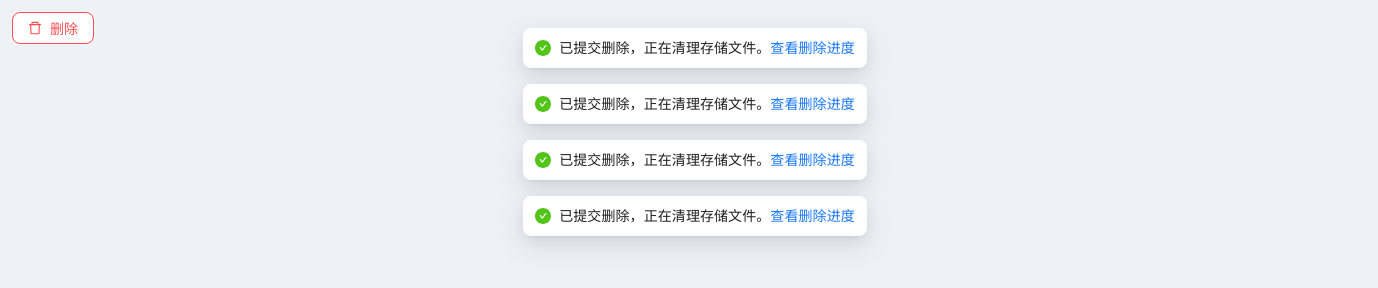
Scenario: Direct dataset deletion › shows blockers and requires confirmation before cancelling an eligible empty upload
Later steps or results of the test are not shown.
Click the button with aria-label "删除数据集 test01".
click(53, 28)  # box left=12, top=12, right=94, bottom=44
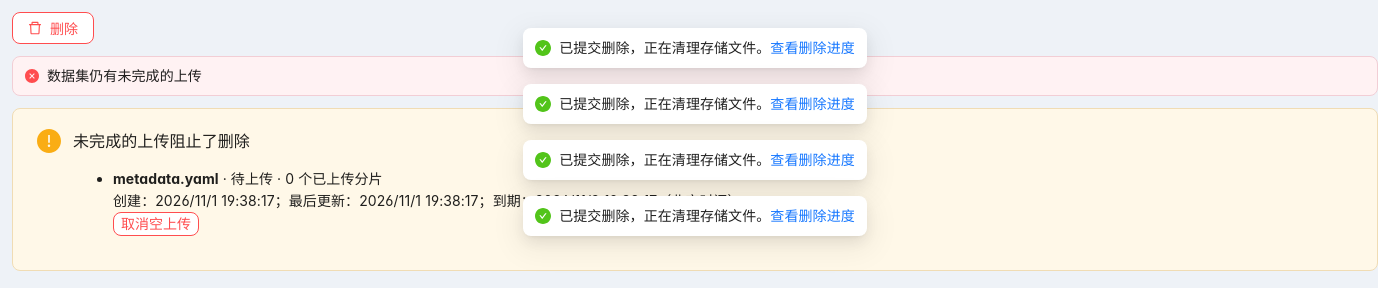
Result: the text "metadata.yaml" is shown at left=113, top=170, right=219, bottom=187
Result: the list item "0 个已上传分片" is shown at left=113, top=170, right=742, bottom=236
Click the button with aria-label "取消空上传 metadata.yaml".
click(156, 224)  # box left=113, top=212, right=199, bottom=236
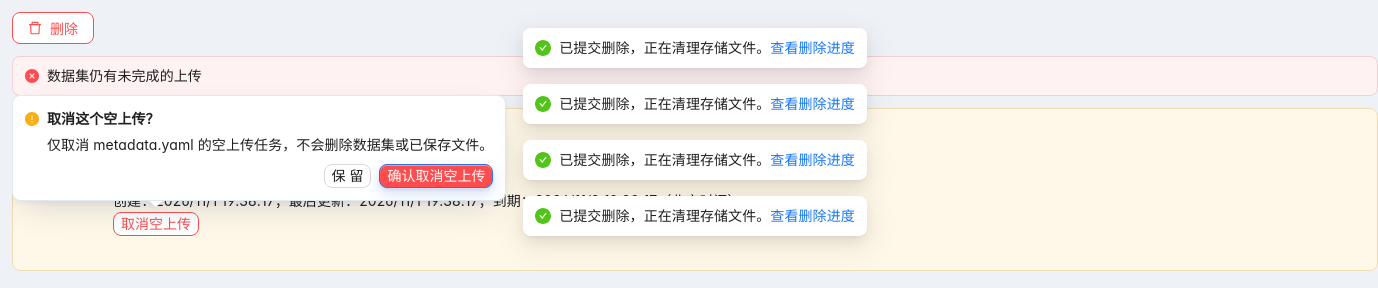
Result: the text "取消这个空上传？" is shown at left=47, top=110, right=160, bottom=127
Result: the text "仅取消 metadata.yaml 的空上传任务，不会删除数据集或已保存文件。" is shown at left=47, top=134, right=494, bottom=156
Click the button "确认取消空上传".
click(436, 176)  # box left=380, top=164, right=494, bottom=188
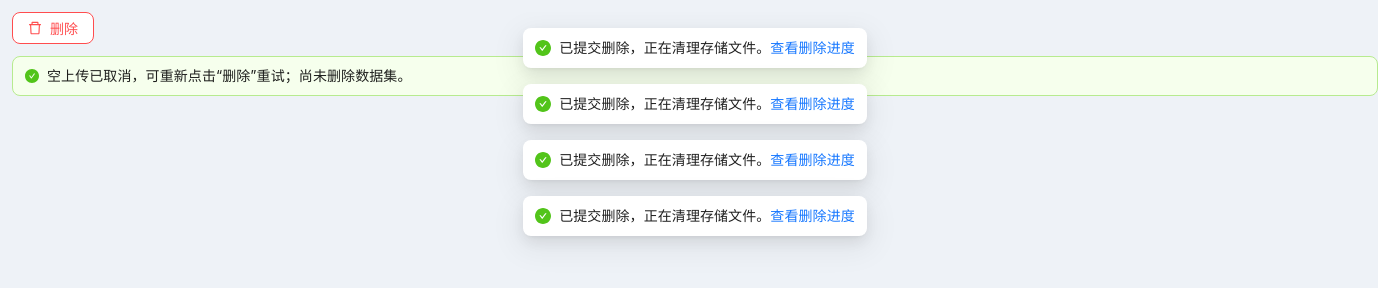
Result: the text "空上传已取消，可重新点击“删除”重试；尚未删除数据集。" is shown at left=47, top=67, right=412, bottom=84
